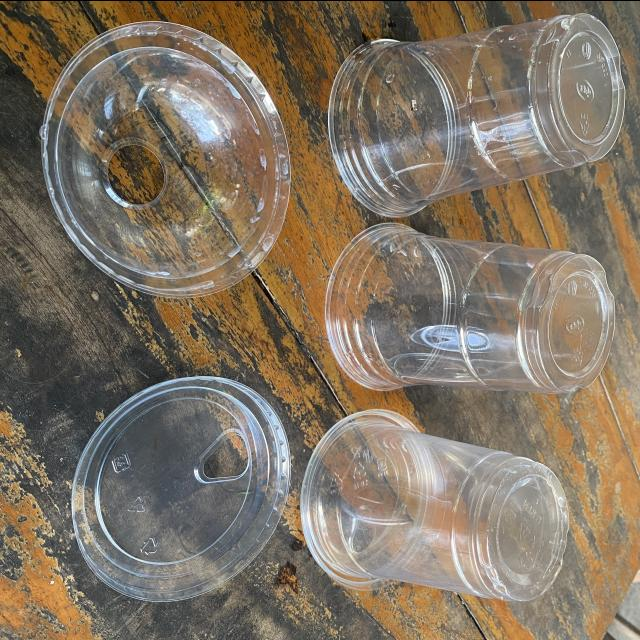plastik: (40, 20, 291, 297), (329, 13, 625, 216), (301, 410, 569, 600), (72, 375, 291, 600), (326, 222, 615, 392)
